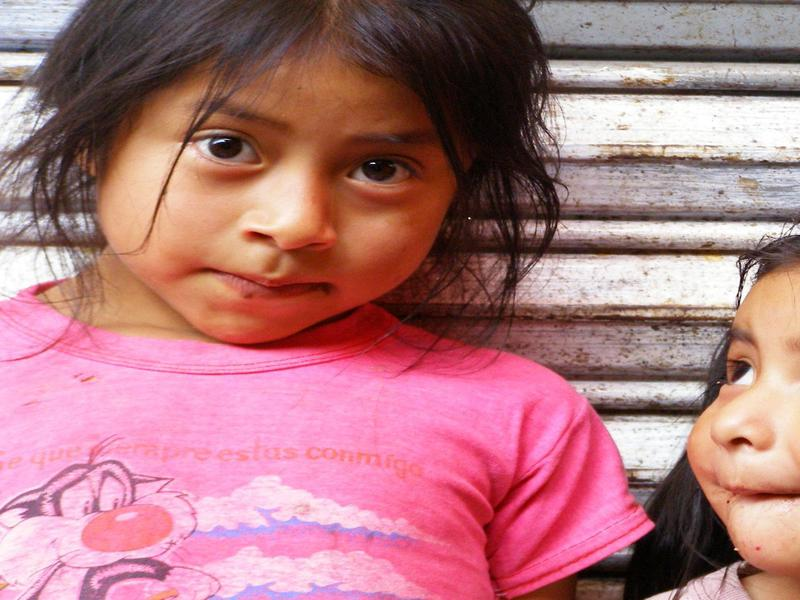person: (1, 3, 653, 600), (649, 234, 799, 600)
